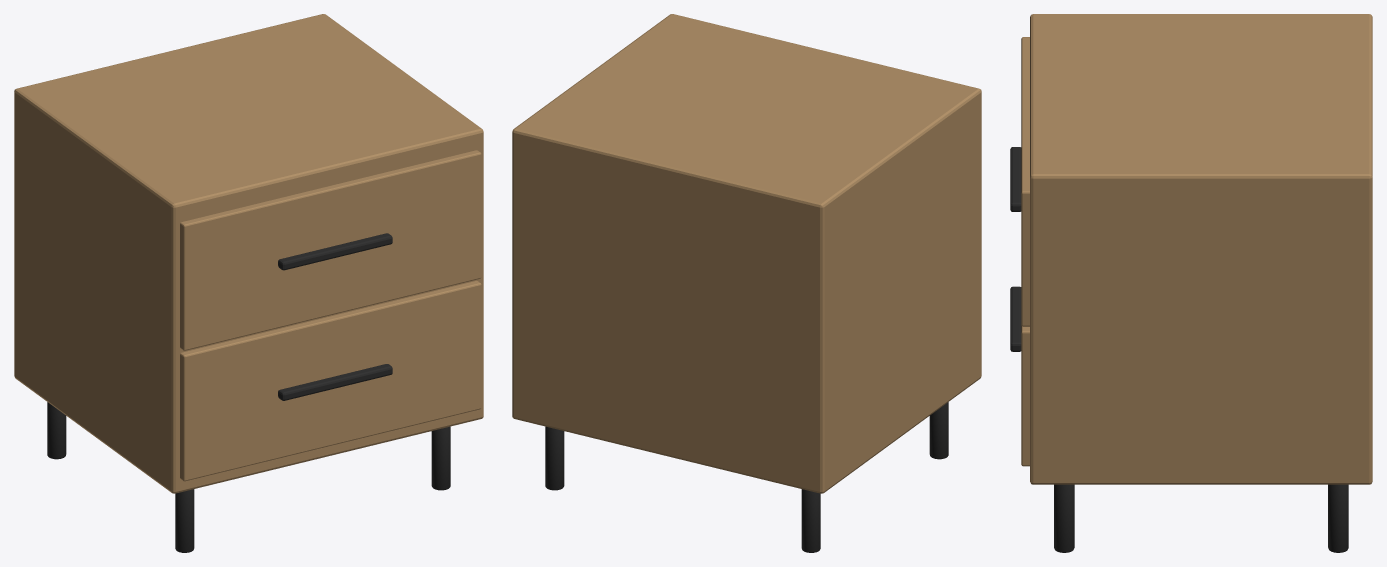
The model's file is nachttisch.glb.
3 renders of one model, left to right at view 1: azimuth 30°, elevation 25°; view 2: azimuth 150°, elevation 25°; view 3: azimuth 270°, elevation 25°, orthographic. The views are drawn at different scales.
Parts seen in each view (by area): view 1: Korpus, Lade0, Lade1, Griff0, Griff1, Bein0, Bein1, Bein2; view 2: Korpus, Bein2, Bein3, Bein0; view 3: Korpus, Lade1, Bein1, Bein3, Lade0, Griff0, Griff1.
Boxes of the visible parts, x1,y1,x2,y2 form: Korpus: (14,14,483,493); Lade0: (180,280,481,481); Lade1: (180,150,481,350); Griff0: (278,364,392,400); Griff1: (278,233,392,270); Bein0: (175,489,194,552); Bein1: (431,426,450,490); Bein2: (47,402,66,459); Korpus: (512,14,981,493); Bein2: (801,489,820,552); Bein3: (545,426,564,490); Bein0: (929,402,948,459); Korpus: (1030,14,1372,484); Lade1: (1021,37,1029,326); Bein1: (1054,484,1074,552); Bein3: (1328,484,1348,552); Lade0: (1021,325,1029,466); Griff0: (1010,286,1021,351); Griff1: (1010,147,1021,211).
Size of the model in its own units: 0.45 by 0.5 by 0.423.
